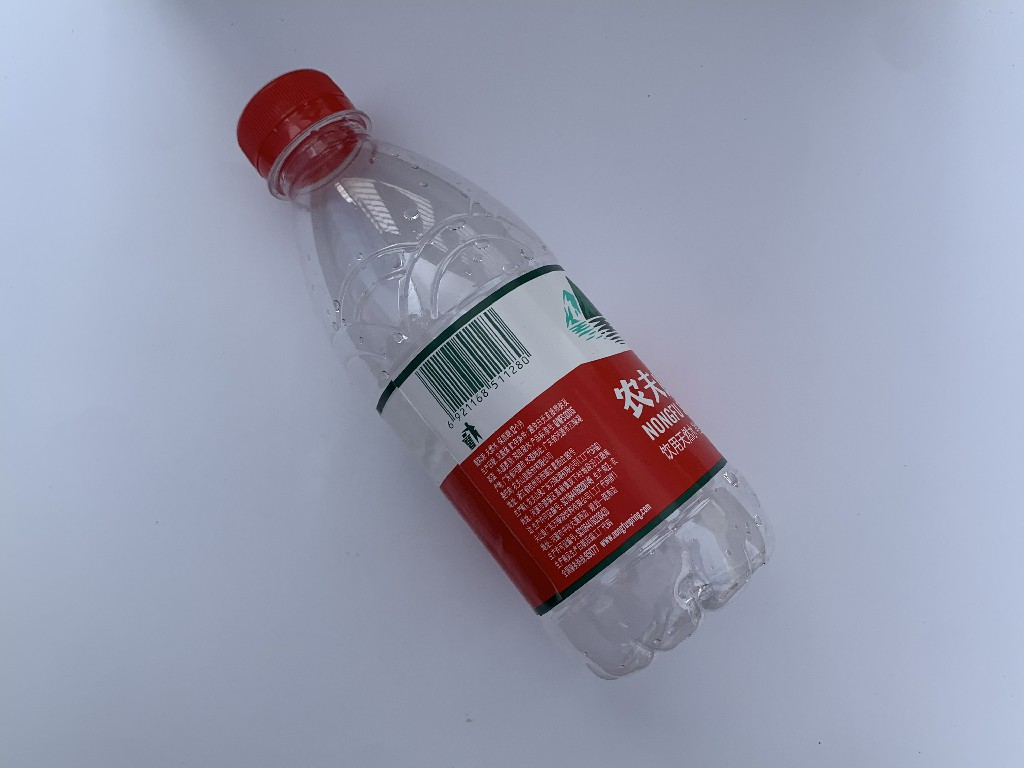bottle: (224, 51, 781, 689)
